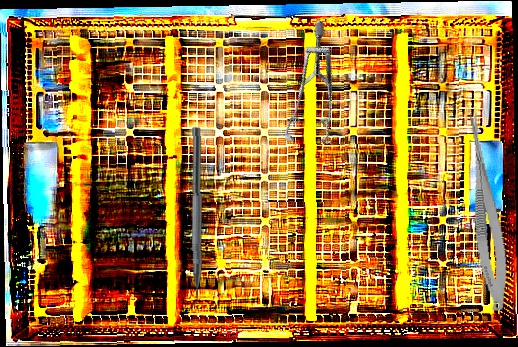Chopper: (179, 126, 205, 318)
Micro Scissor: (454, 103, 515, 313)
Speculum: (245, 18, 388, 165)
